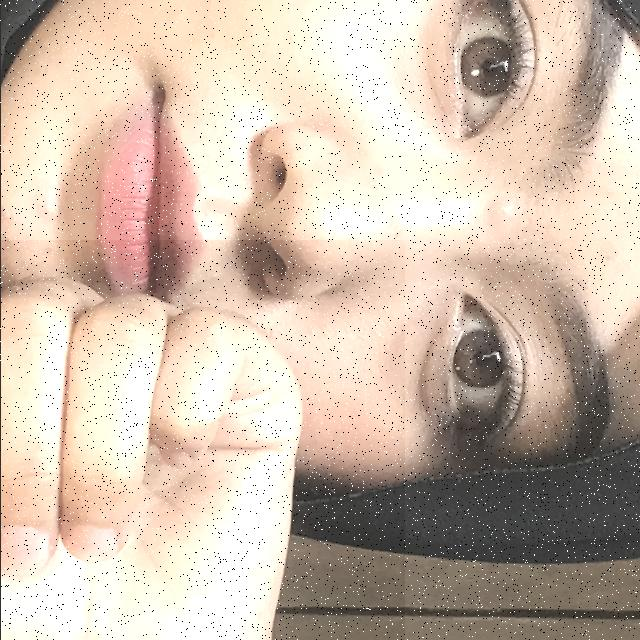sedih: (0, 240, 404, 640)
